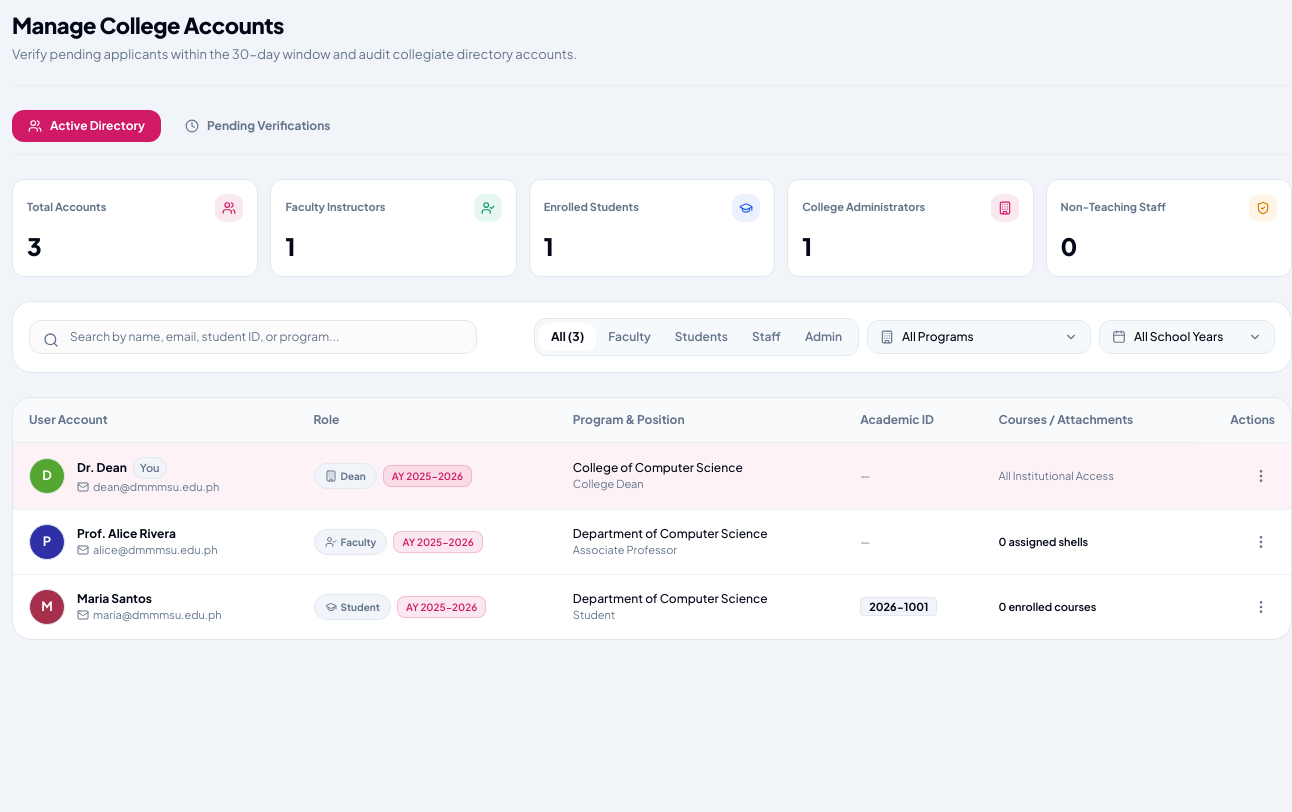
Test: ManageAccountsPage Actions Column (3-Dot Menu & View Profile) › disables Edit and Delete options for the currently active session user
Click the button named "Actions for Dr. Dean" at [1261, 476], box [1247, 462, 1275, 490]
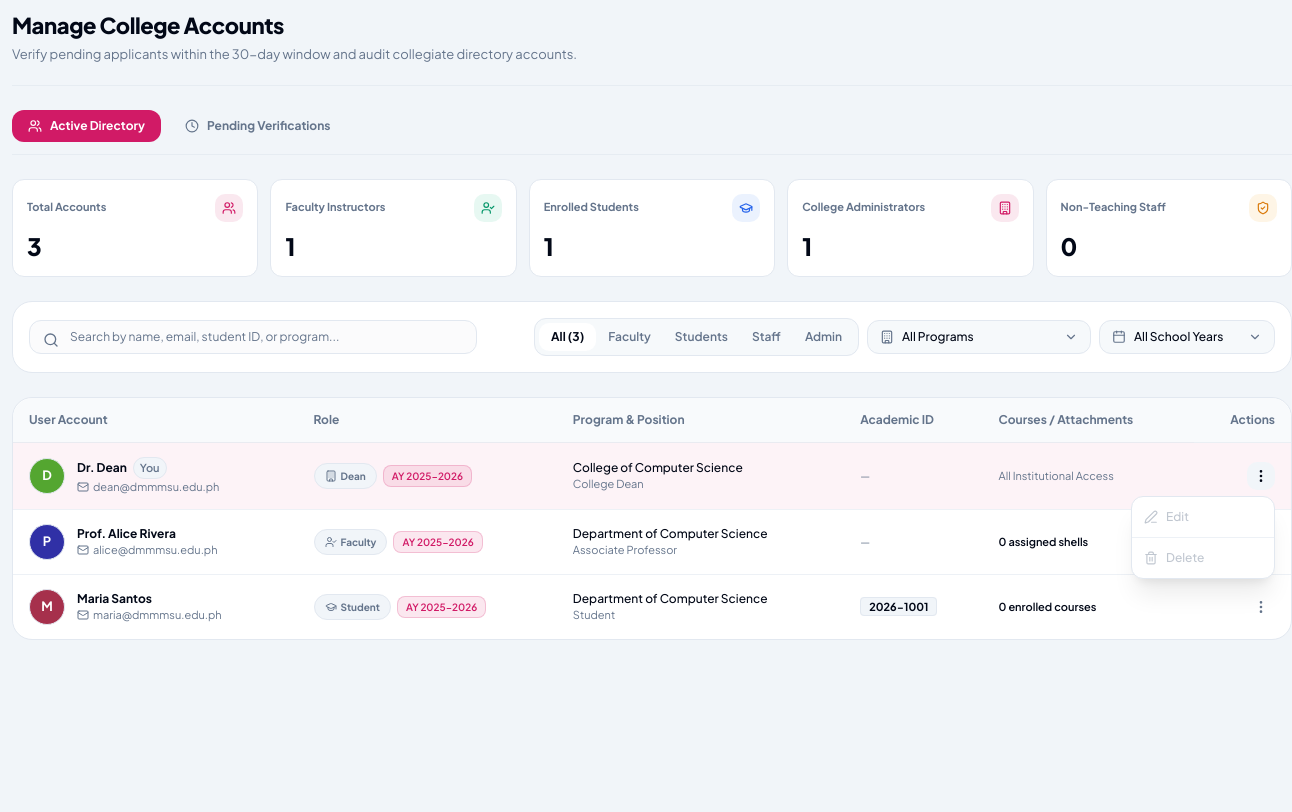
Expected: the menu item "Edit" is disabled, [1132, 501, 1274, 533]
Expected: the menu item "Delete" is disabled, [1132, 542, 1274, 574]
